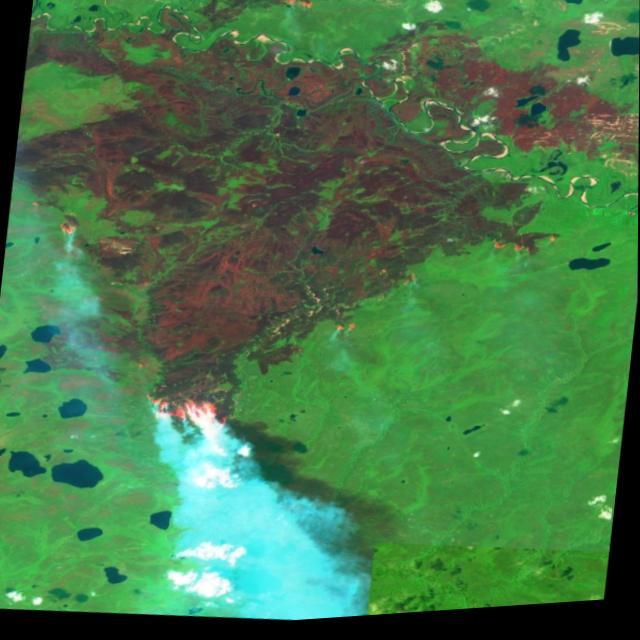fire: (128, 383, 247, 446), (481, 229, 561, 270), (48, 206, 88, 240), (320, 316, 365, 346), (269, 0, 319, 20)
